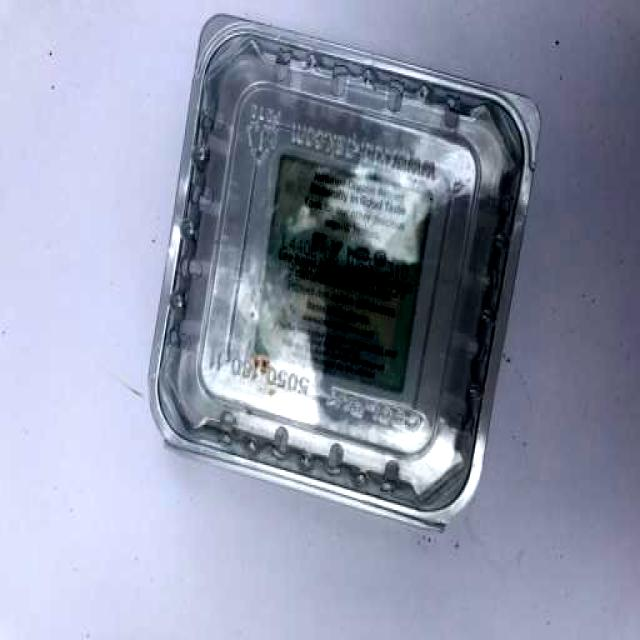plastic: (148, 12, 532, 532)
